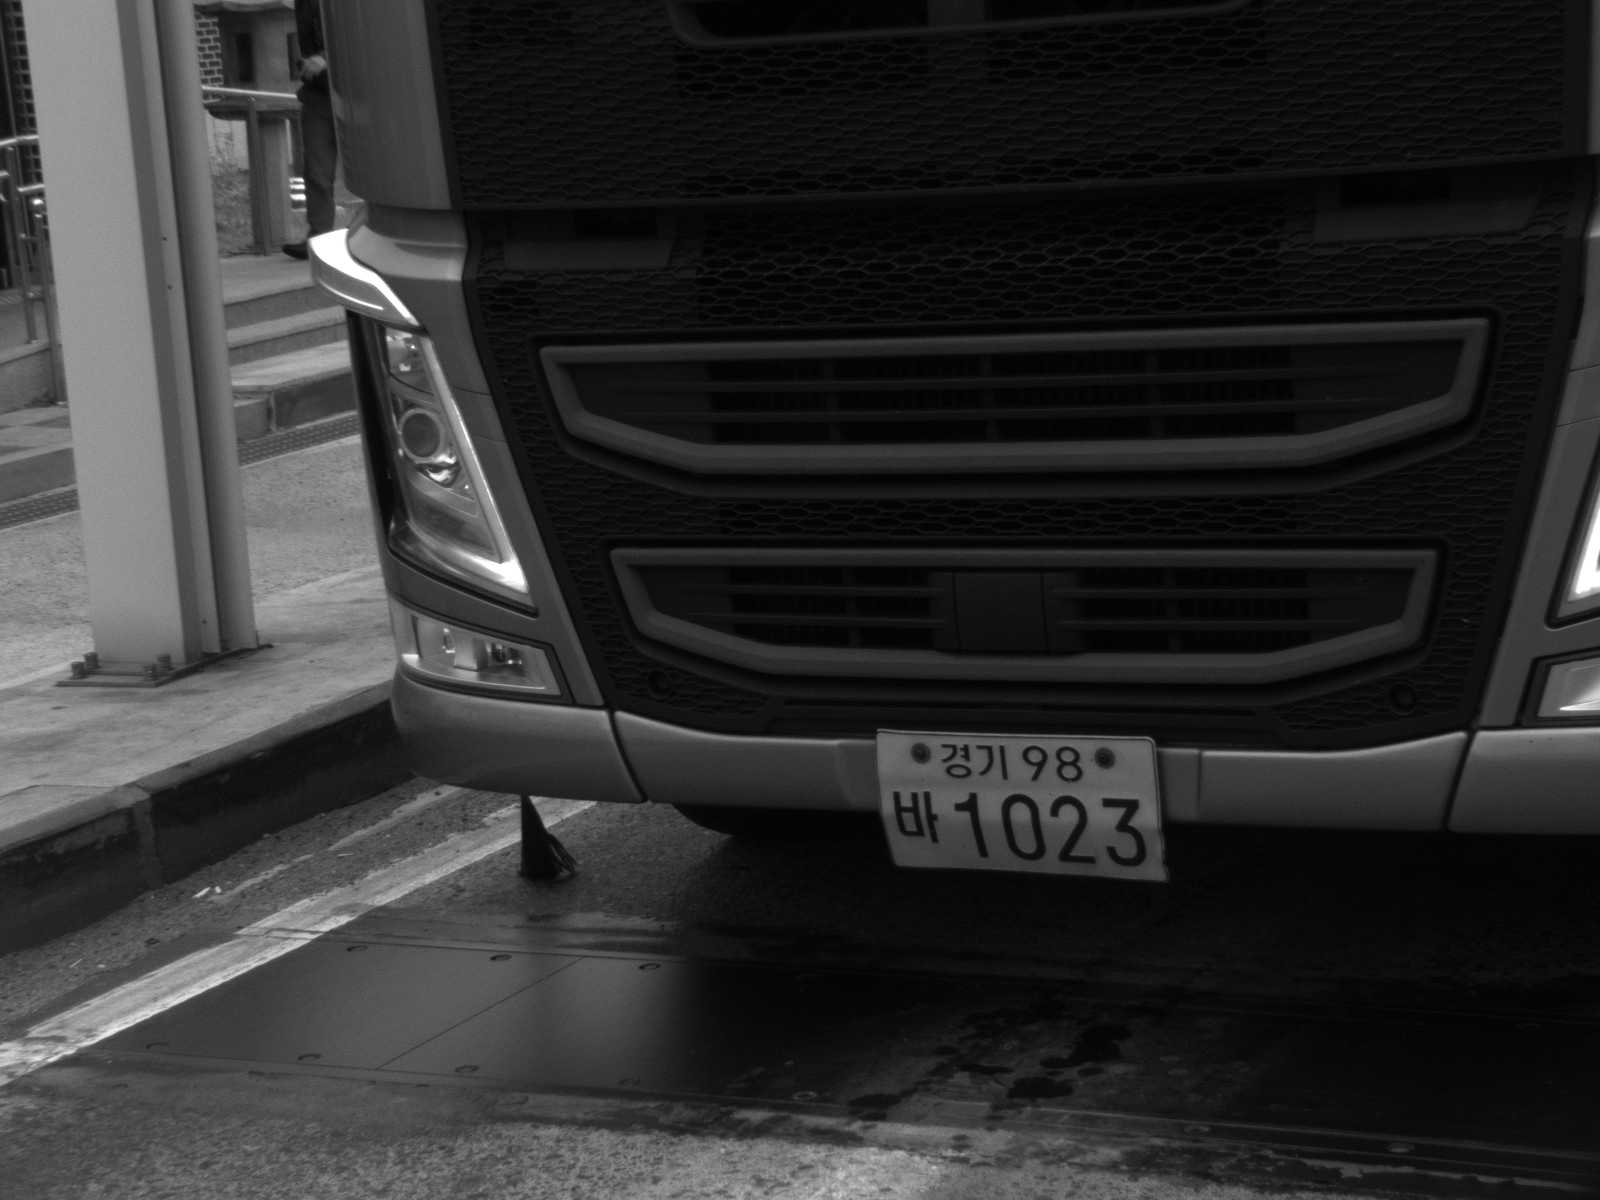car: (314, 1, 1600, 895)
plate: (870, 725, 1169, 882)
